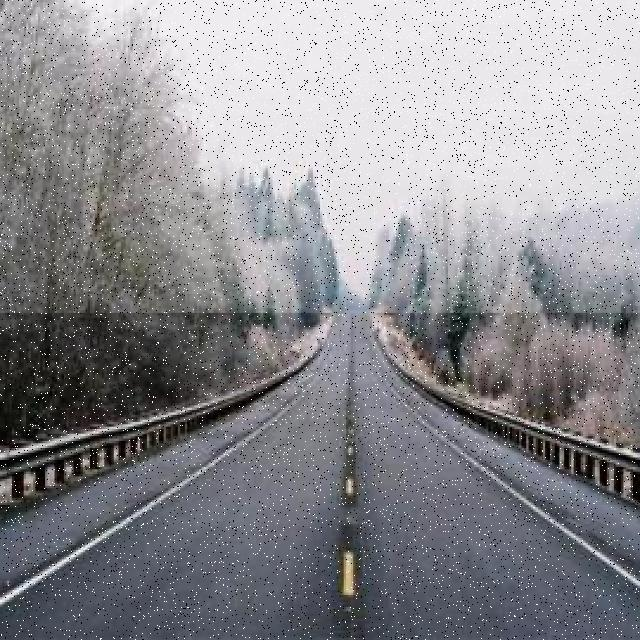clear-road: (0, 314, 640, 640)
